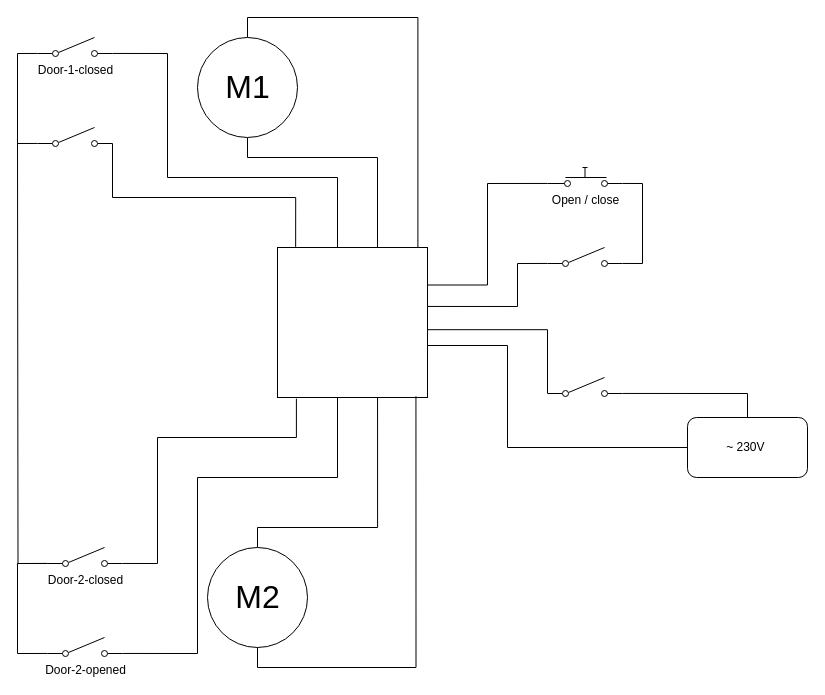
Image size: 825x695. Some labels were removed from this diagram. The shapes that lost their labels are listed below. From the top down, each one's box as (x1, y1, x2, y2) in pixels, then its label:
(36, 126, 112, 146): Door-1-opened
(546, 246, 622, 266): Separate M2
(546, 376, 622, 396): Light Sensor
